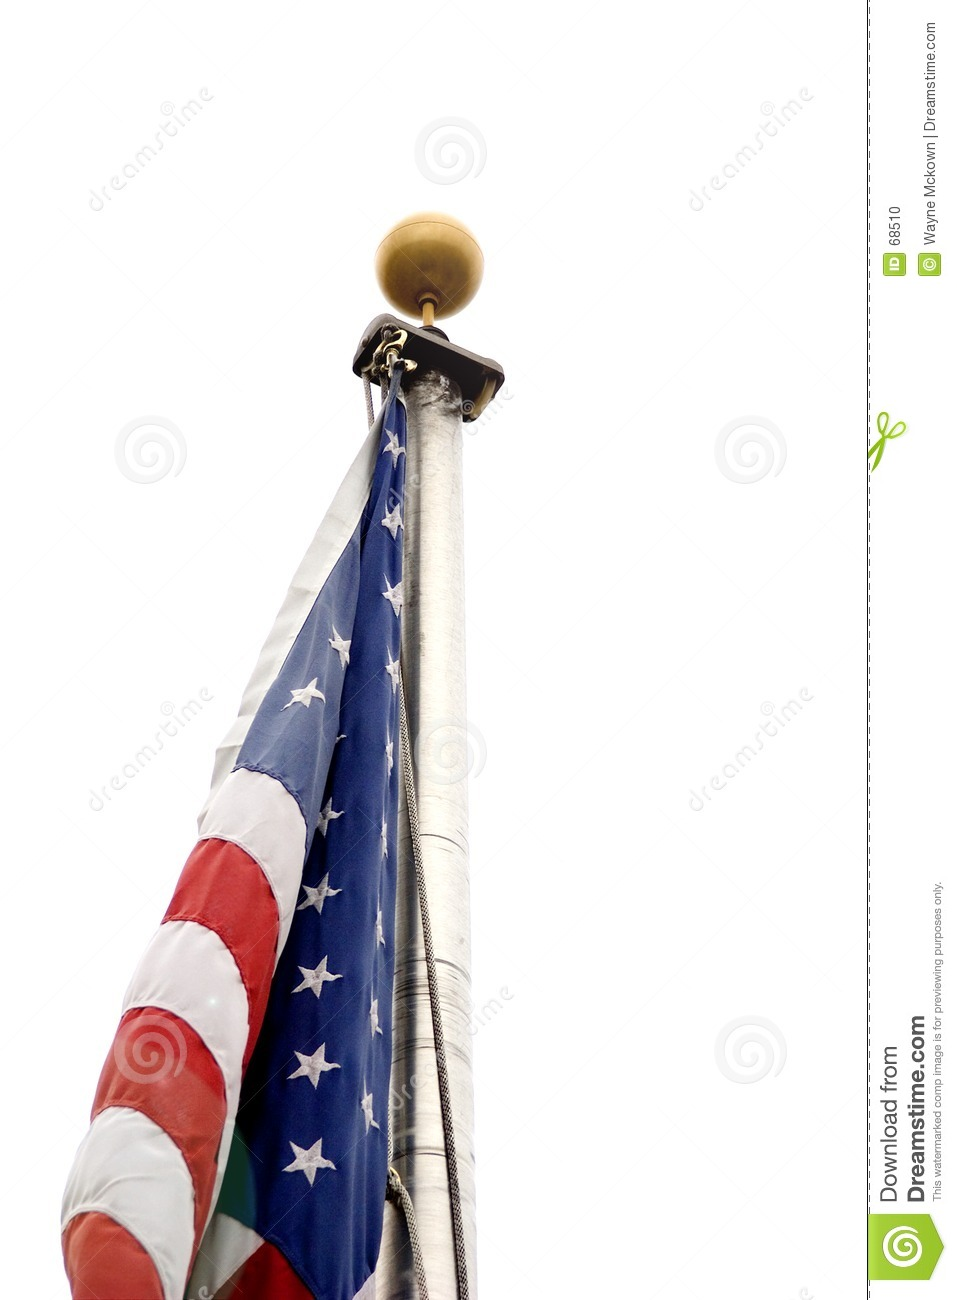Flag: (59, 377, 413, 1300)
